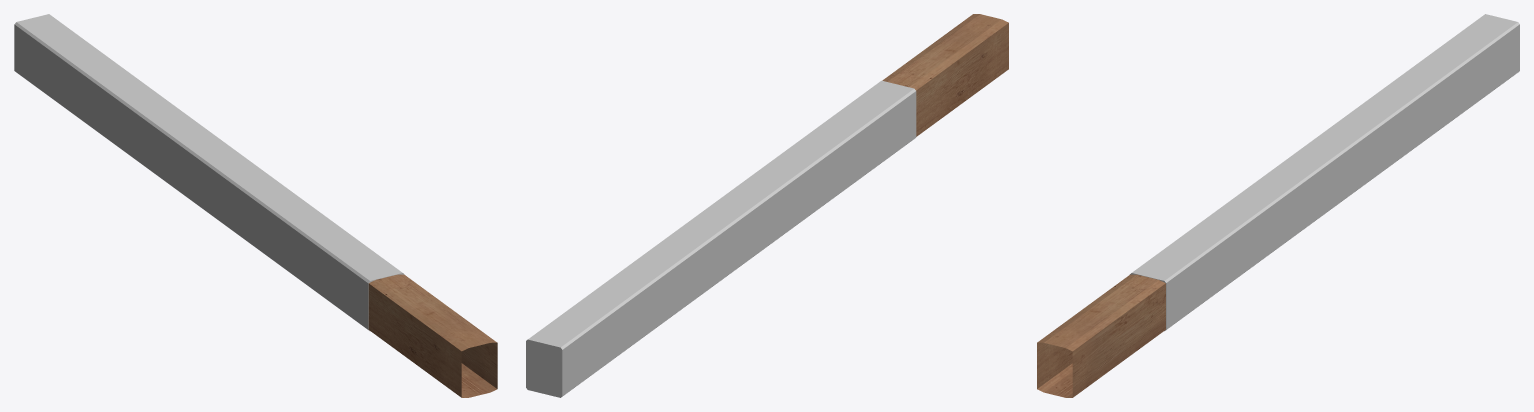
File: SM_HBJ_BeamD.fbx
The picture shows the model from 3 angles, left to right: view 1: azimuth 30°, elevation 25°; view 2: azimuth 150°, elevation 25°; view 3: azimuth 330°, elevation 25°; orthographic projection.
Parts seen in each view (by area): view 1: SM_HBJ_BeamD_ConvexHulls, SM_HBJ_BeamD; view 2: SM_HBJ_BeamD_ConvexHulls, SM_HBJ_BeamD; view 3: SM_HBJ_BeamD_ConvexHulls, SM_HBJ_BeamD.
Part boxes in pixels (<box>): SM_HBJ_BeamD_ConvexHulls: <box>14,14,404,330</box>; SM_HBJ_BeamD: <box>368,274,497,397</box>; SM_HBJ_BeamD_ConvexHulls: <box>526,80,916,397</box>; SM_HBJ_BeamD: <box>882,14,1008,136</box>; SM_HBJ_BeamD_ConvexHulls: <box>1130,14,1519,331</box>; SM_HBJ_BeamD: <box>1037,274,1165,397</box>.
Bounding box in the file's own units: 11.47 × 244 × 15.16.
Materials: 2 (1 with a texture image).
